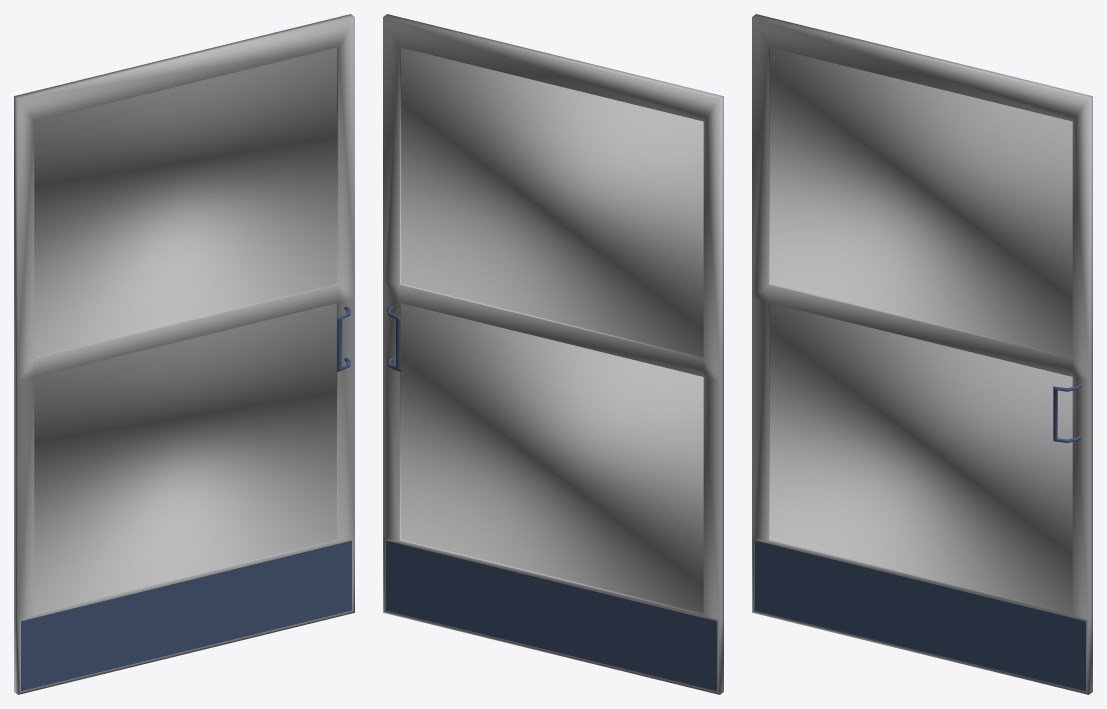
The model's file is SW_corridor__R_lobby_R_Aula_Ovi_022.FBX.
The picture shows the model from 3 angles, left to right: view 1: azimuth 30°, elevation 25°; view 2: azimuth 150°, elevation 25°; view 3: azimuth 330°, elevation 25°; orthographic projection.
Visible parts, largest first — view 1: SW_corridor__R_lobby_R_Aula_Ovi_022; view 2: SW_corridor__R_lobby_R_Aula_Ovi_022; view 3: SW_corridor__R_lobby_R_Aula_Ovi_022.
Boxes of the visible parts, box(x1,y1,x2,y2) form: SW_corridor__R_lobby_R_Aula_Ovi_022: box(14, 14, 354, 694); SW_corridor__R_lobby_R_Aula_Ovi_022: box(383, 14, 723, 694); SW_corridor__R_lobby_R_Aula_Ovi_022: box(752, 14, 1092, 694).
Size of the model in its own units: 121 by 14.61 by 205.
